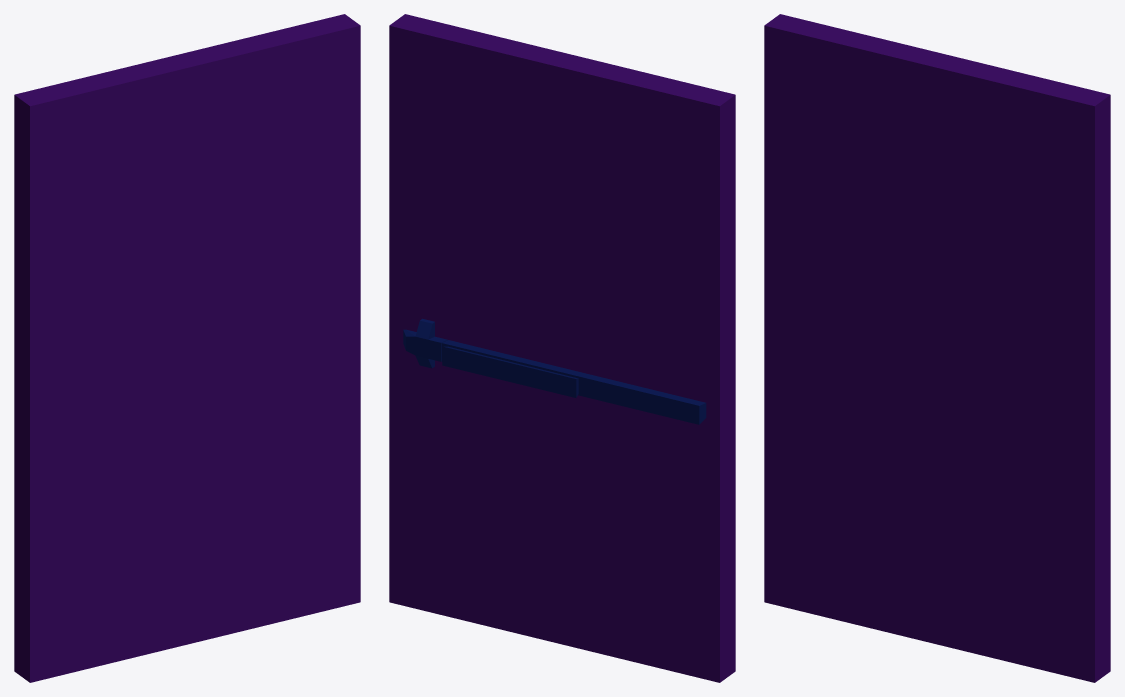
The model's file is Emergency_Door_low.fbx.
3 renders of one model, left to right at view 1: azimuth 30°, elevation 25°; view 2: azimuth 150°, elevation 25°; view 3: azimuth 330°, elevation 25°, orthographic.
Parts seen in each view (by area): view 1: Emergency_Door_low; view 2: Emergency_Door_low, Emergency_Door_Handle_low; view 3: Emergency_Door_low.
Part boxes in pixels (bbox=[...]): Emergency_Door_low: bbox=[14, 14, 360, 682]; Emergency_Door_low: bbox=[389, 14, 735, 682]; Emergency_Door_Handle_low: bbox=[403, 318, 706, 424]; Emergency_Door_low: bbox=[764, 14, 1110, 682].
Size of the model in its own units: 120 by 200 by 16.52.
